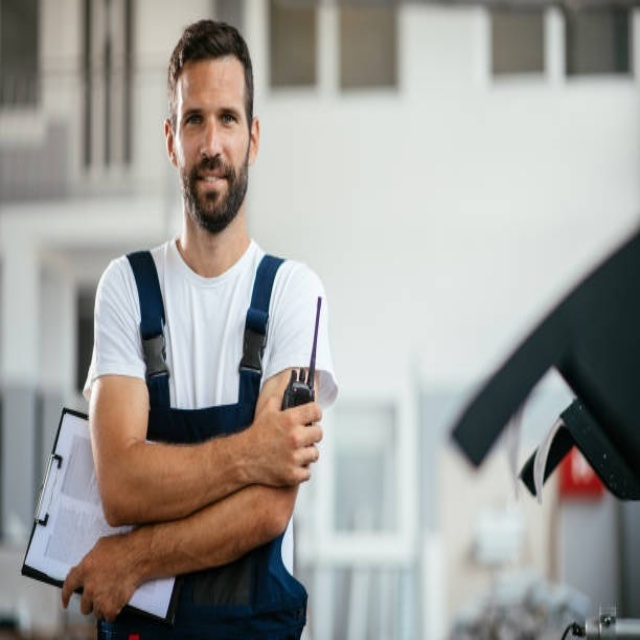Sin_gafas: (180, 93, 243, 144)
Sin_guantes: (250, 377, 327, 487), (61, 530, 148, 625)
Sin_mascara: (191, 165, 234, 210)
